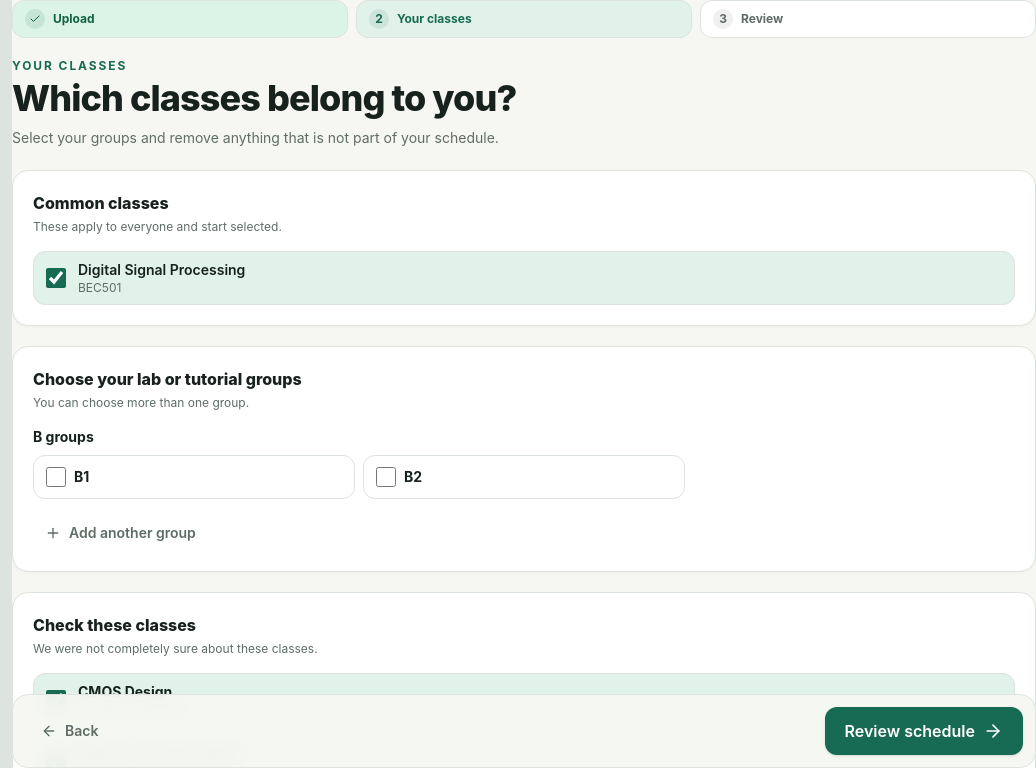
simplified timetable confirmation › supports multiple and custom groups without replacing selections
Click the checkbox labelled "B1": click(56, 477) x1=46 y1=467 x2=66 y2=487
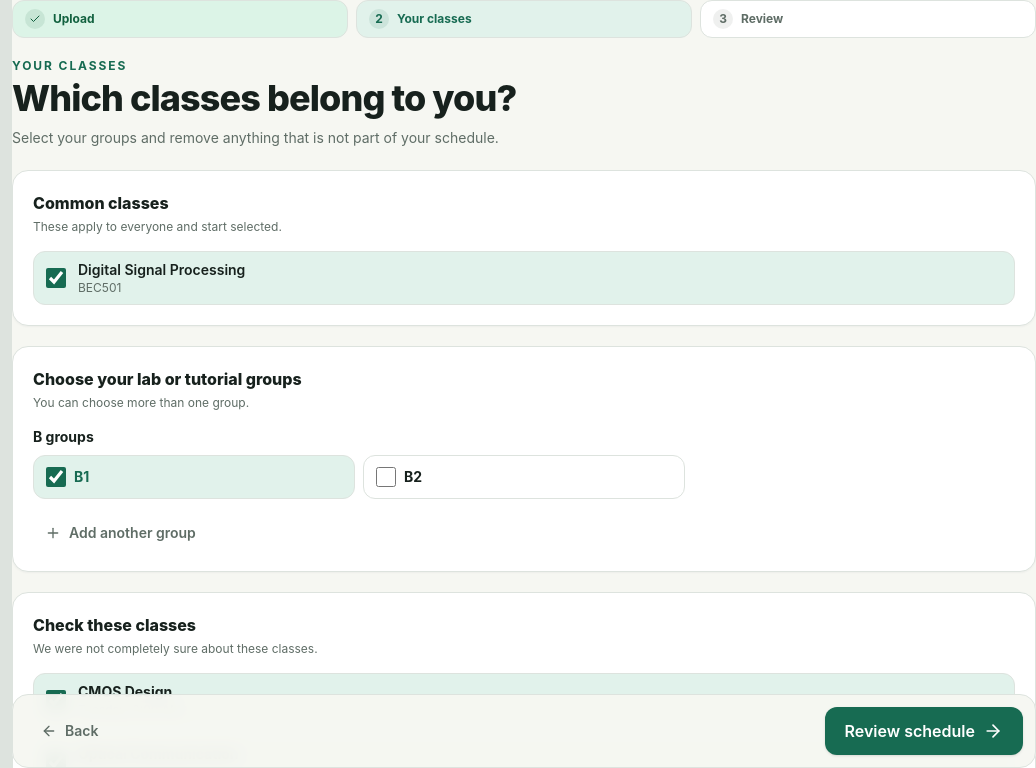
Click the checkbox labelled "B2": click(386, 477) x1=376 y1=467 x2=396 y2=487
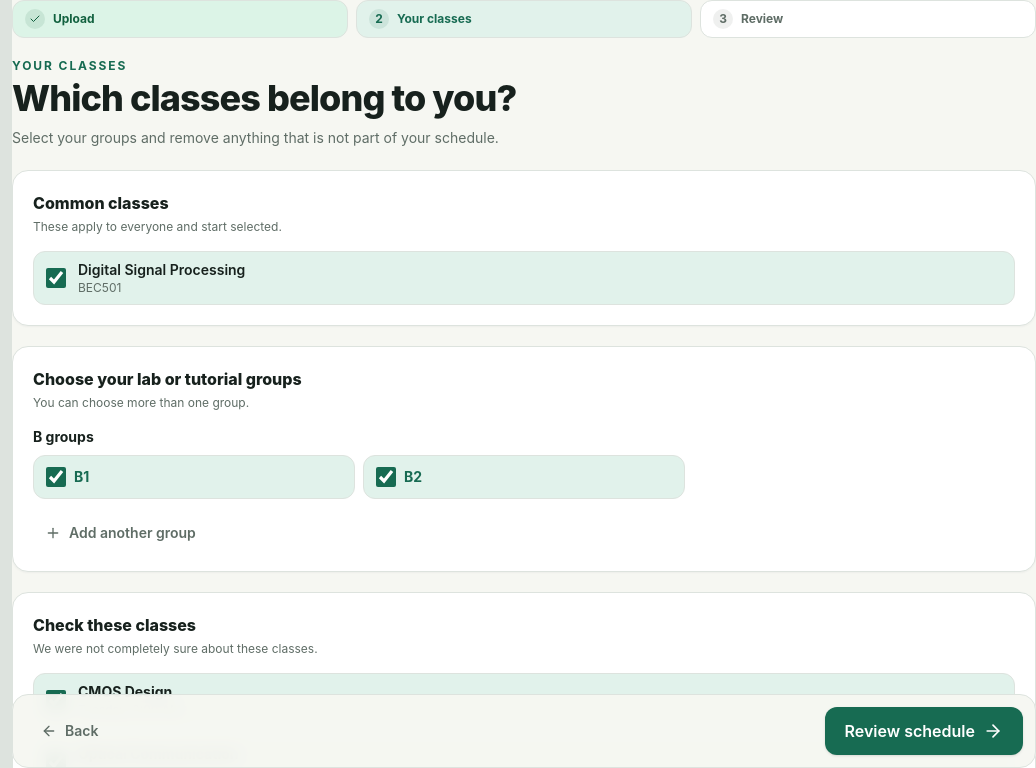
Click the button "Add another group": click(120, 533) x1=33 y1=515 x2=208 y2=551
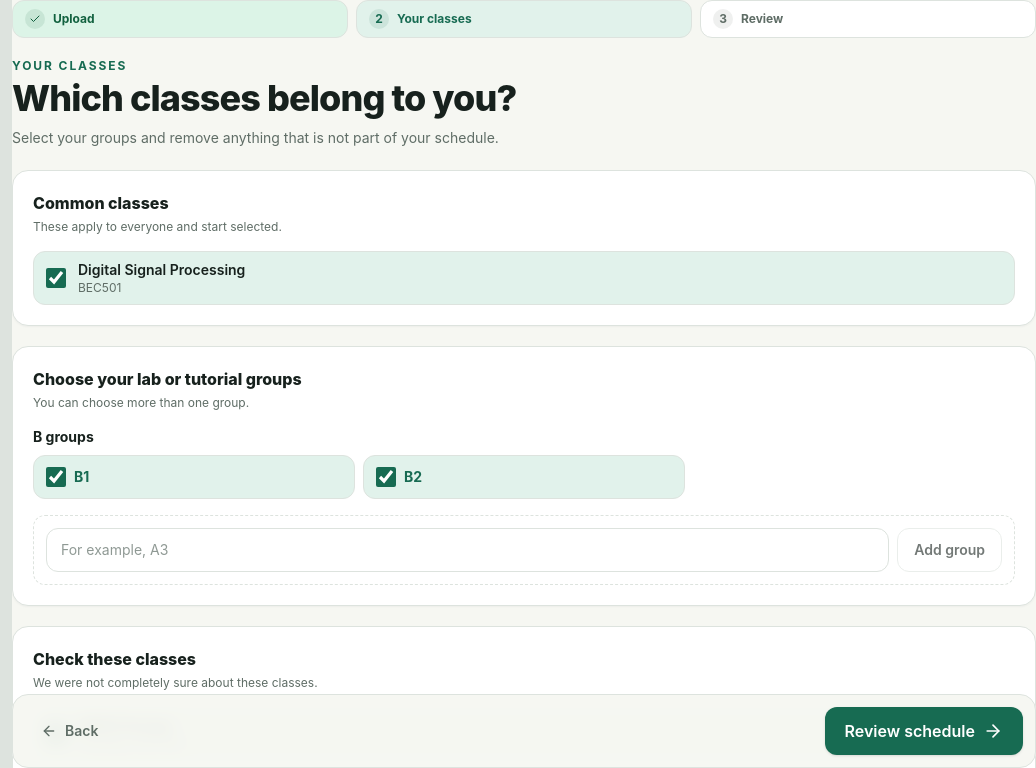
In the field named "Custom group": (468, 550) x1=46 y1=528 x2=889 y2=572, type "  A   3  "
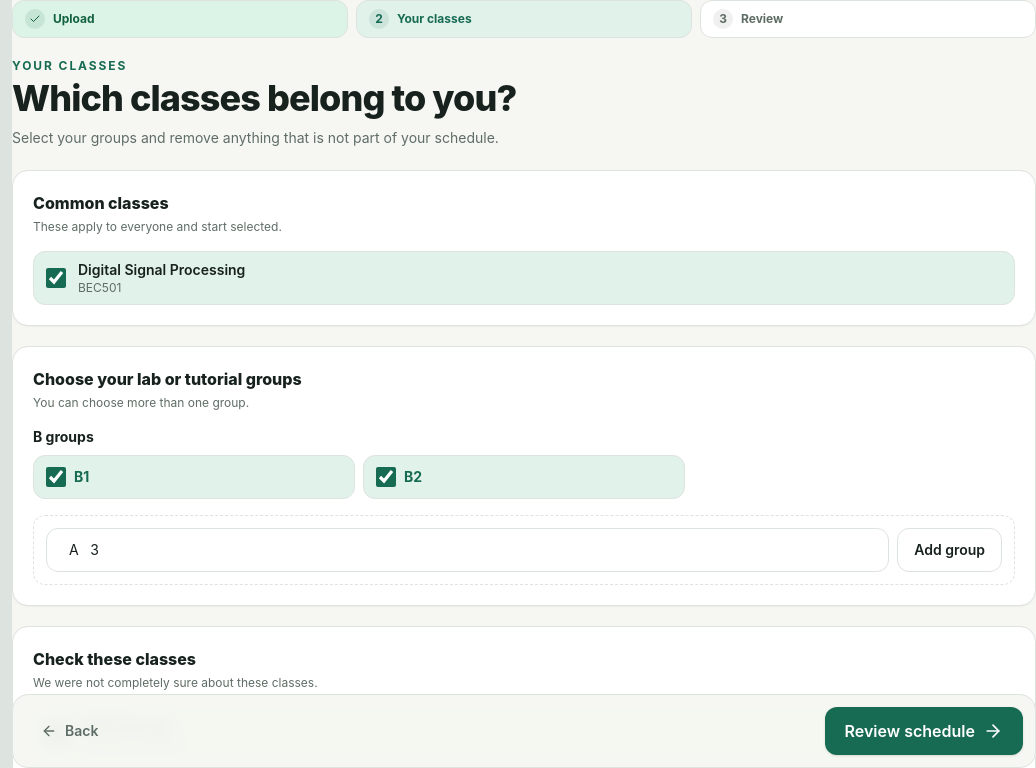
Click the button "Add group": click(950, 550) x1=897 y1=528 x2=1002 y2=572
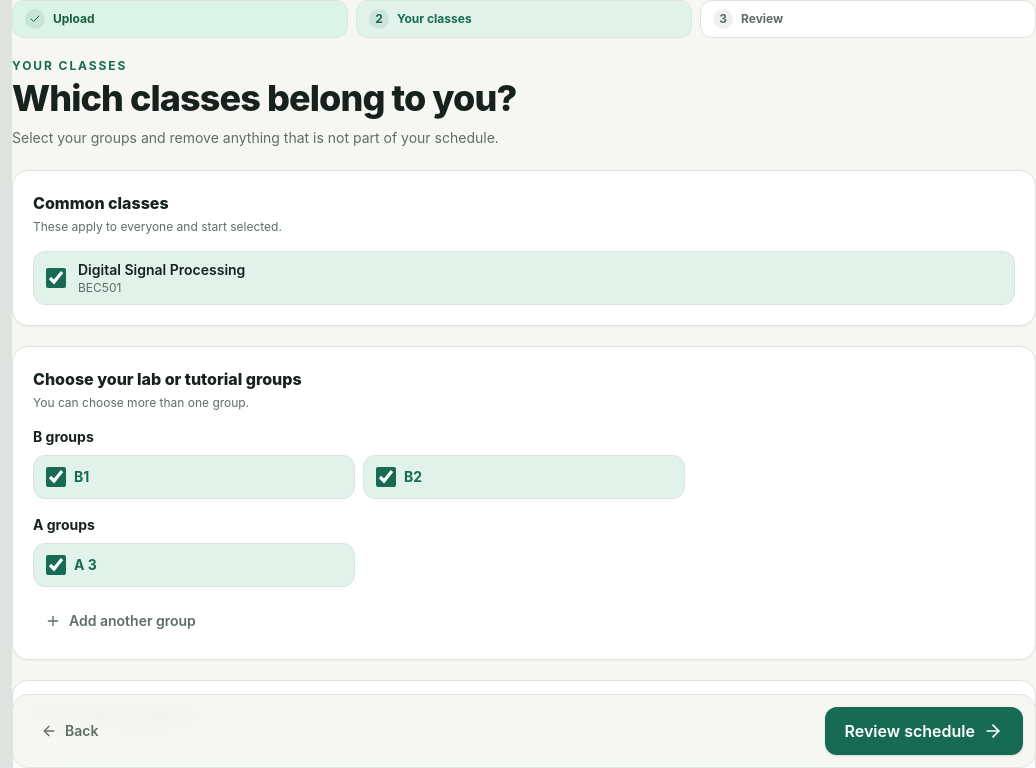
Expected: the checkbox labelled "B1" is checked, x1=46 y1=467 x2=66 y2=487
Expected: the checkbox labelled "B2" is checked, x1=376 y1=467 x2=396 y2=487
Expected: the checkbox labelled "A 3" is checked, x1=46 y1=555 x2=66 y2=575
